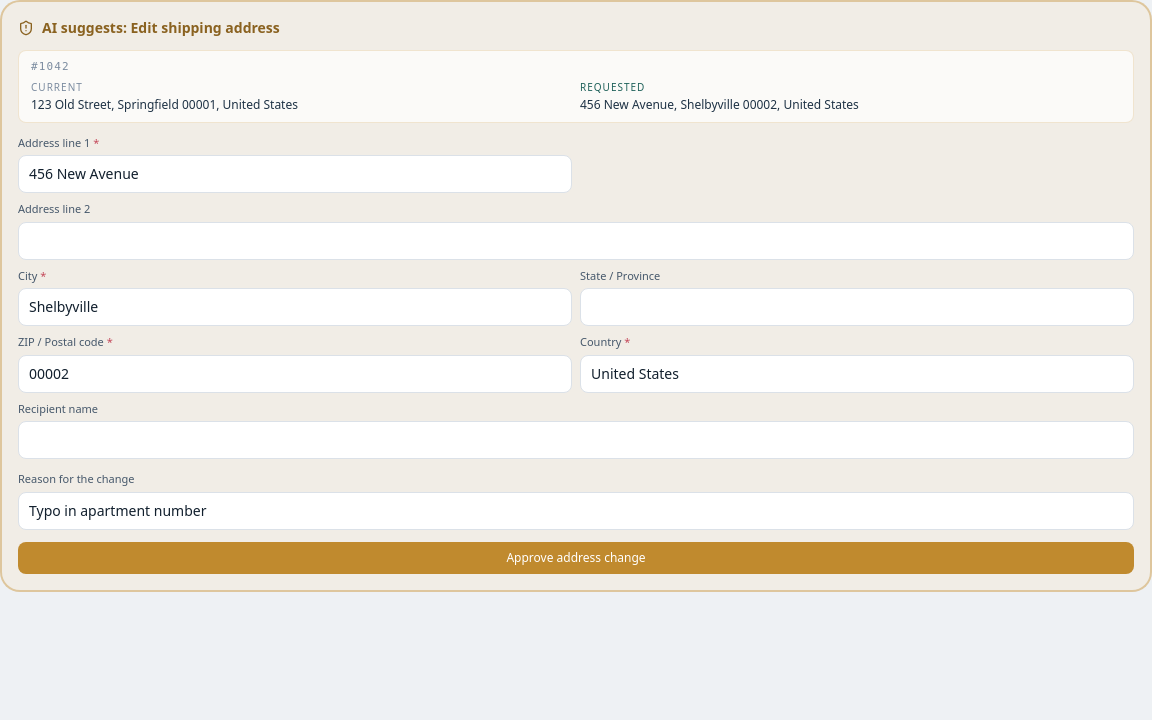
Test: ActionApprovalPanel — edit address › submits the edited address and shows before/after
Replace the text in the field showing "Shelbyville" below "City" with "Capital City". click: point(295, 307)
box: [18,288,572,326]
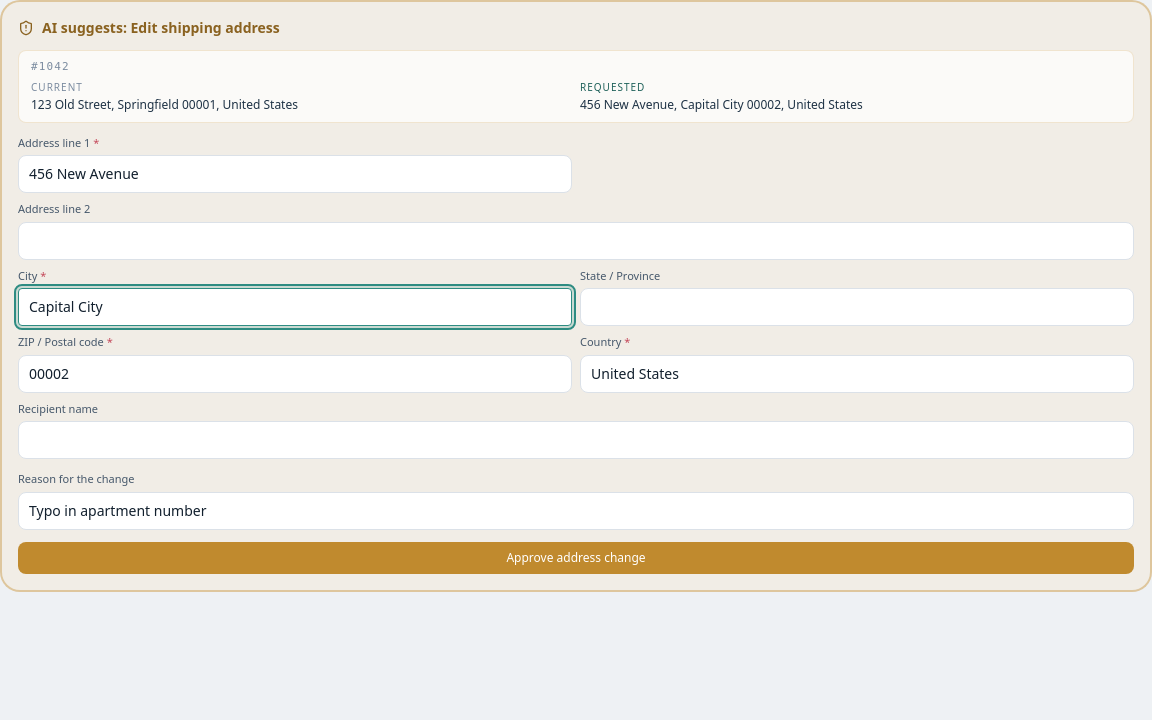
Click the button "Approve address change". click: point(576, 558)
box: [18,542,1134,574]
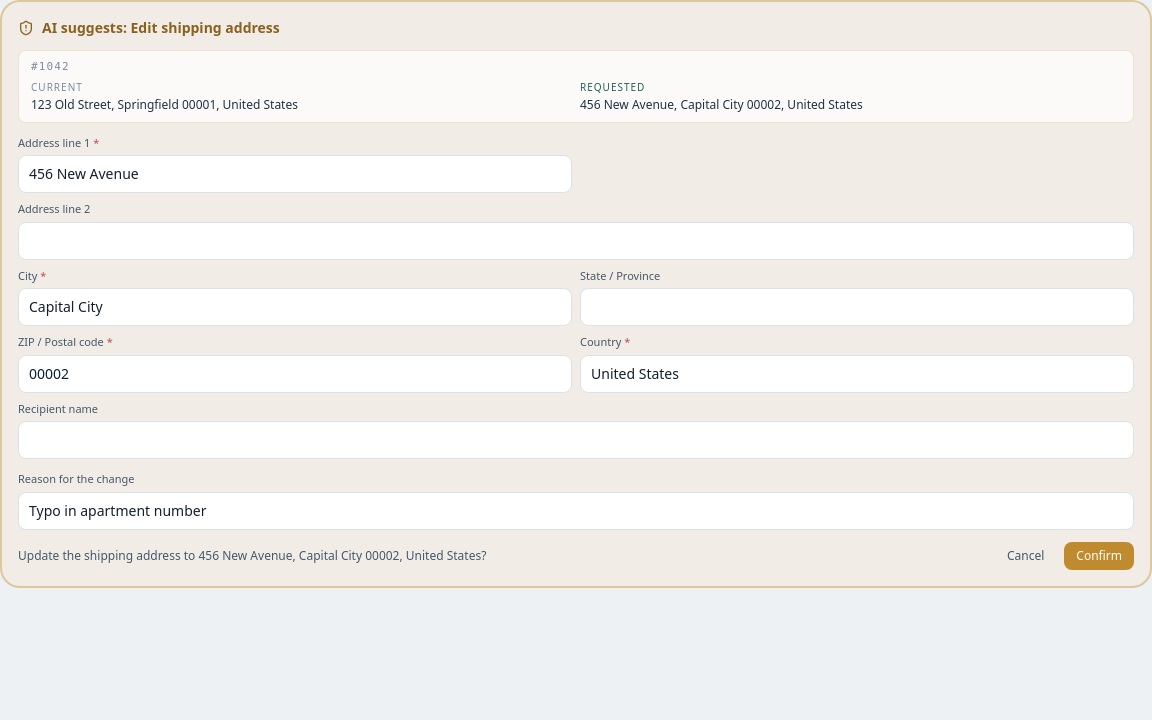
Click the button "Confirm". click: point(1099, 556)
box: [1064,542,1134,570]
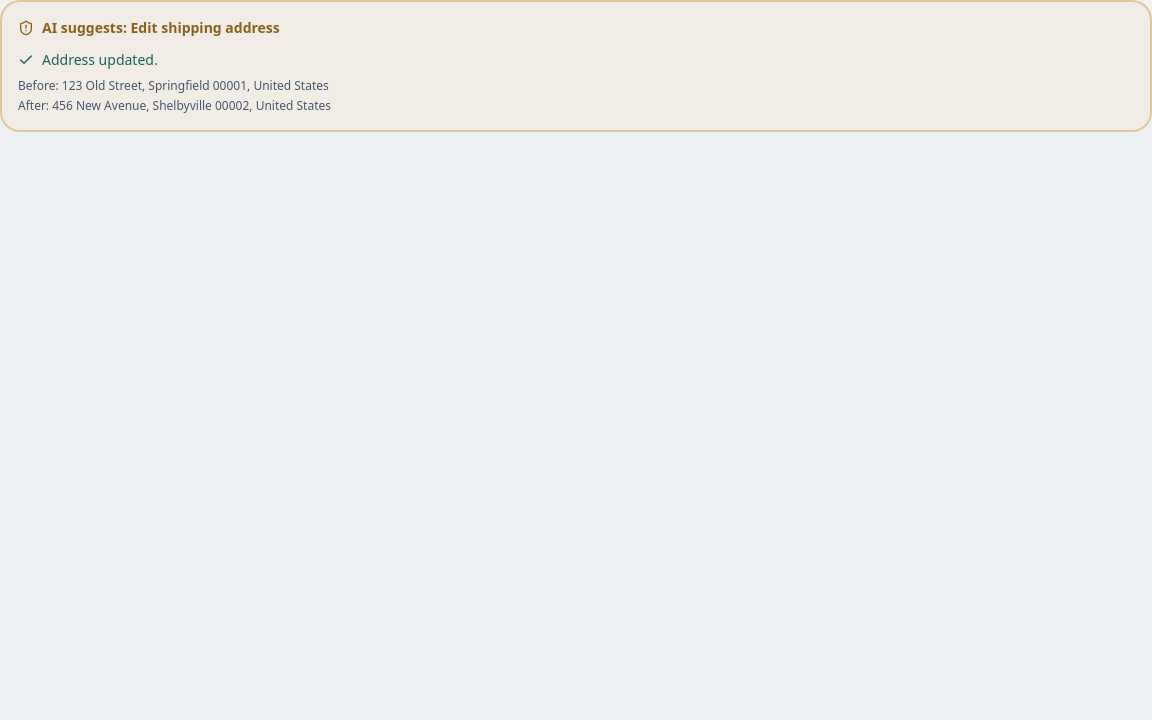
Expected: the text "Address updated." is shown, [18,50,158,69]
Expected: the text "Before:" is shown, [18,77,59,94]
Expected: the text "After:" is shown, [18,97,49,114]
